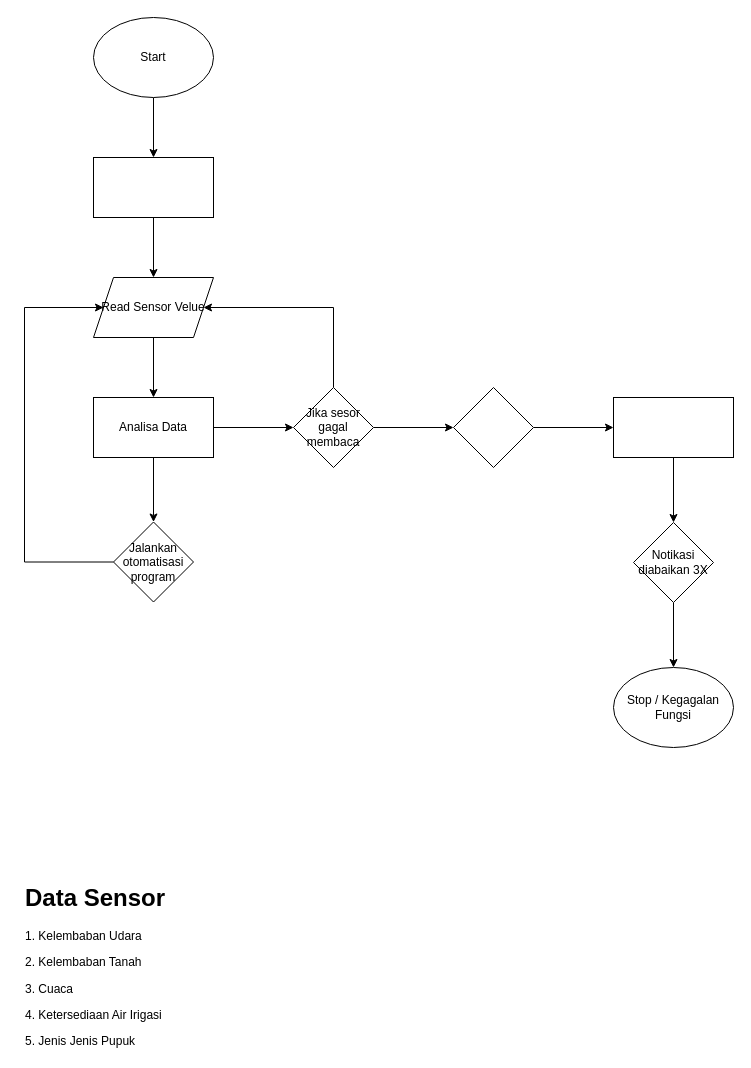
Image size: 751x1068. Some labels were removed from this diagram. Here are the shapes that lost their labels. From the top down, the centre of each, then its label:
At point 153,187: "Inisialisasi, Deklarasi, Setup".
At point 493,427: "Jika gagal selama 3 kali".
At point 673,427: "Kirim Notifikasi dan Error Code".
